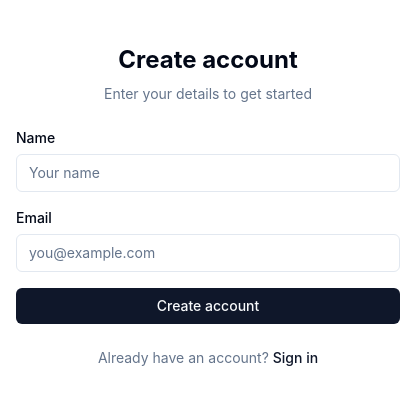
Scenario: RegisterPage › displays error alert when registration fails
Type "Alice" into the field with id "name" at (208, 173), box [16,154,400,192]
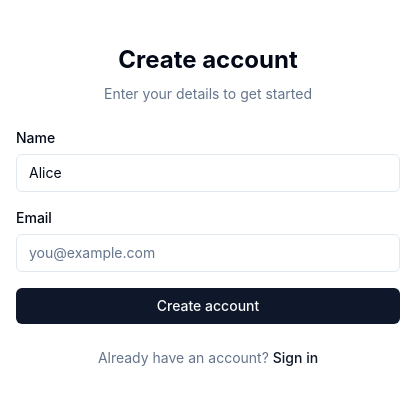
Type "alice@example.com" into the field with id "reg-email" at (208, 253), box [16,234,400,272]
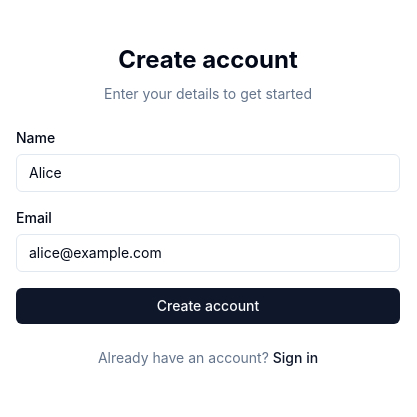
Submit the form, box [16,128,400,324]
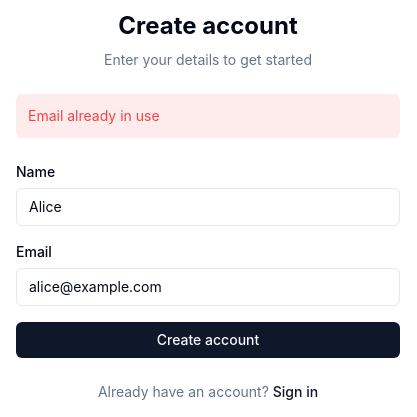
Result: the message "Email already in use" is shown at [16,94,400,138]
